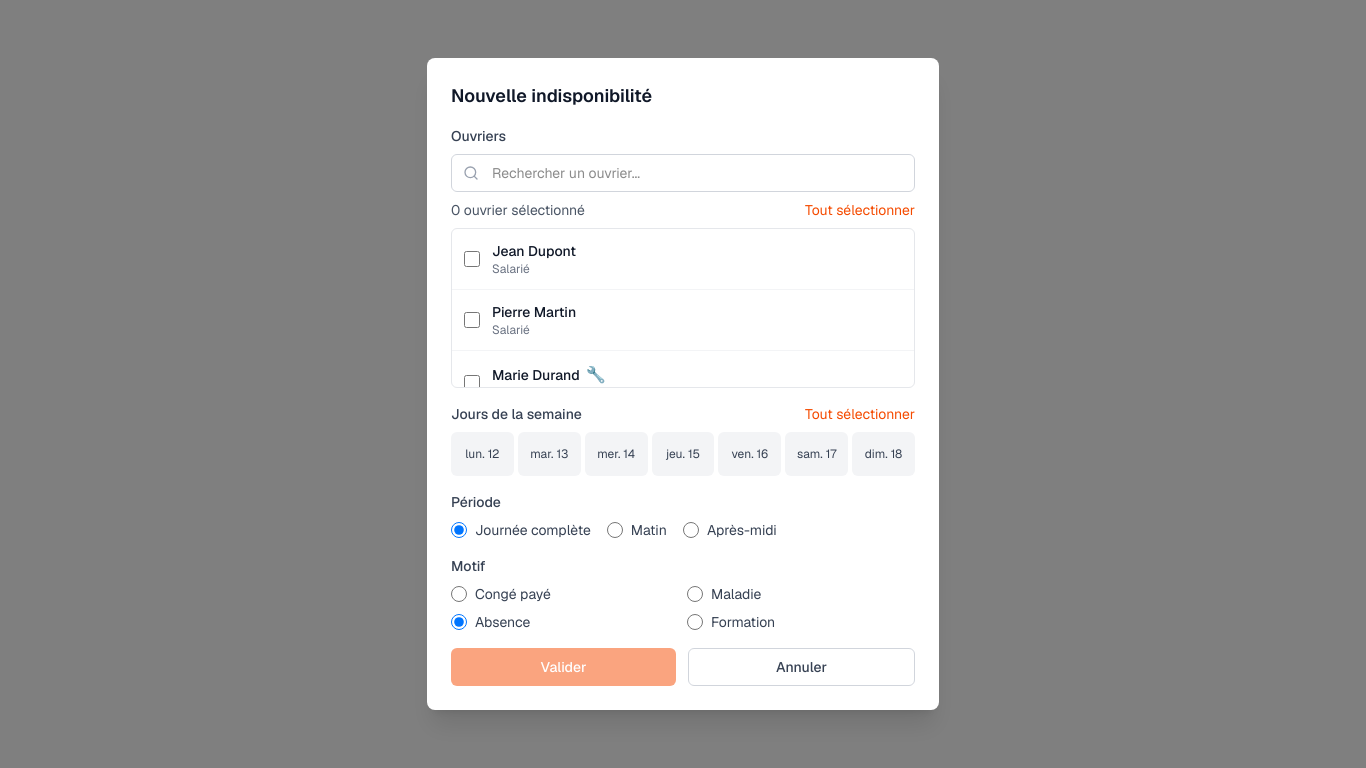
it: IndisponibiliteMultiModal › Vérification des conflits (AC: 8) › affiche le bouton "Vérifier les conflits" quand des sélections sont faites
This screenshot has width=1366, height=768.
Sélectionner un ouvrier
What coordinates should you click on to do the following:
click the checkbox labelled "Jean Dupont Salarié"
I would click on:
 (472, 259)
Its box is [464,251,480,267].
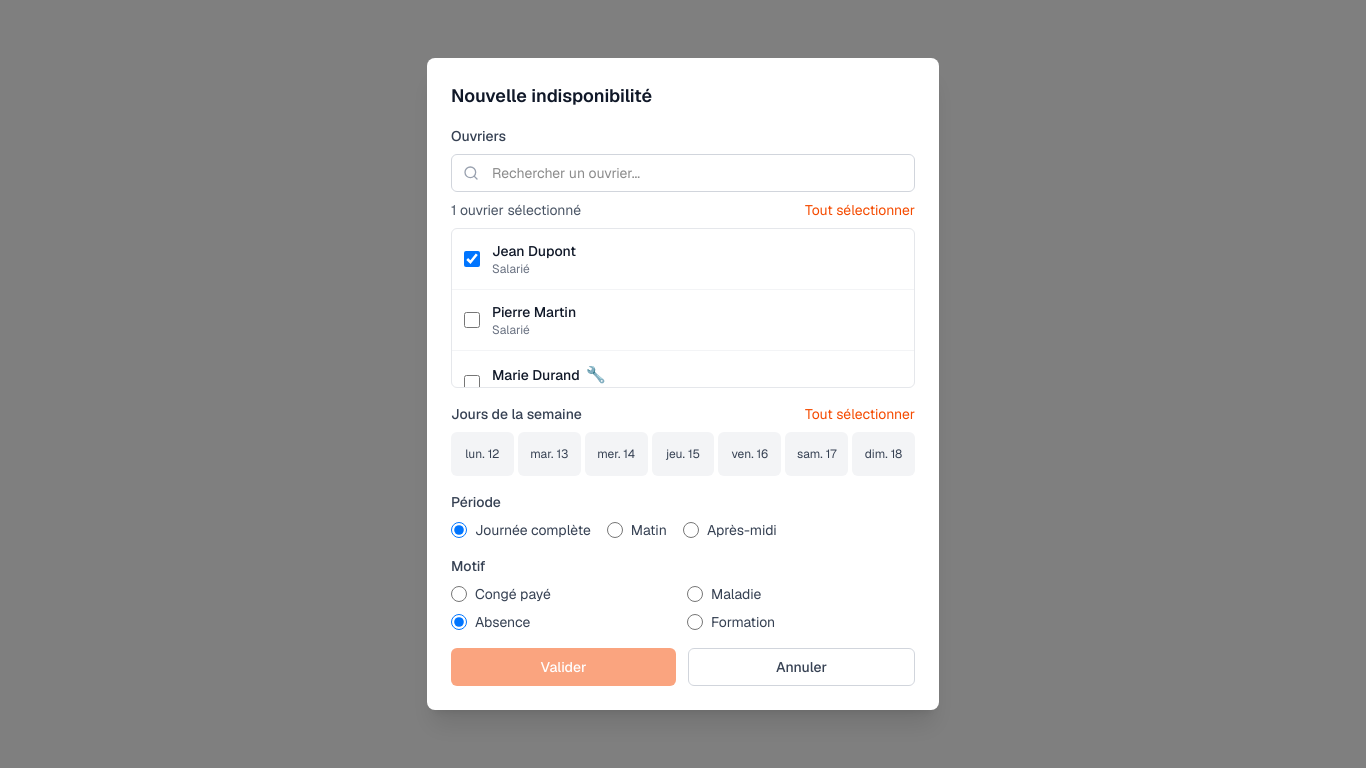
Sélectionner un jour
What coordinates should you click on to do the following:
click the checkbox labelled "lun. 12"
I would click on:
 (482, 454)
Its box is [451,432,514,476].
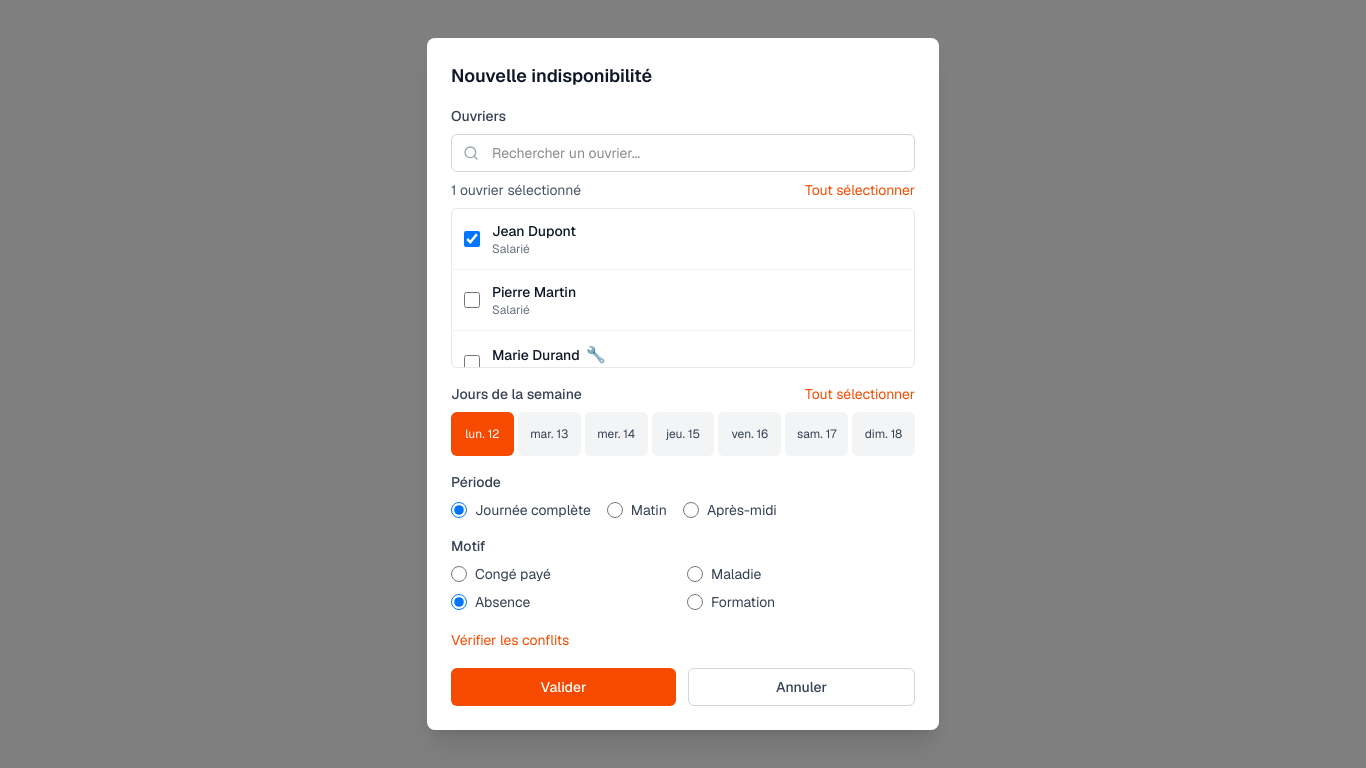
Now the button "Vérifier les conflits" is shown, box [451,630,569,650]
